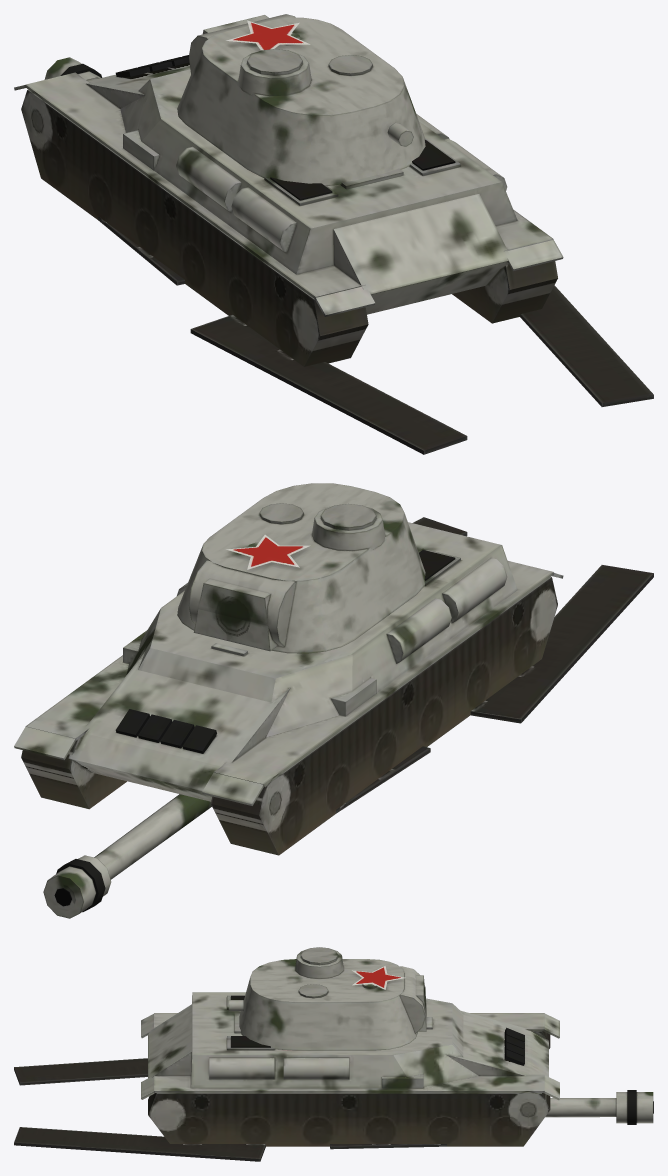
The model's file is is2_winter.glb.
3 renders of one model, top to bottom at view 1: azimuth 30°, elevation 25°; view 2: azimuth 150°, elevation 25°; view 3: azimuth 270°, elevation 25°, orthographic. The views are drawn at different scales.
Visible parts, largest first — view 1: hull_ok, turret_ok, hull_trackL, hull_trackR, gun_ok; view 2: hull_ok, turret_ok, hull_trackL, gun_ok; view 3: hull_ok, turret_ok, hull_trackR, gun_ok, hull_trackL.
Part boxes in pixels (bbox=[...]): hull_ok: bbox=[14, 55, 563, 366]; turret_ok: bbox=[177, 14, 425, 185]; hull_trackL: bbox=[98, 216, 467, 454]; hull_trackR: bbox=[520, 285, 653, 406]; gun_ok: bbox=[44, 57, 102, 81]; hull_ok: bbox=[14, 522, 563, 855]; turret_ok: bbox=[177, 483, 425, 653]; hull_trackL: bbox=[336, 565, 653, 813]; gun_ok: bbox=[43, 794, 211, 918]; hull_ok: bbox=[141, 992, 559, 1146]; turret_ok: bbox=[228, 947, 426, 1050]; hull_trackR: bbox=[14, 1127, 446, 1161]; gun_ok: bbox=[545, 1090, 653, 1124]; hull_trackL: bbox=[14, 1058, 147, 1085].
Size of the model in its own units: 4.31 by 2.94 by 10.74.
Materials: 11 (11 with a texture image).
